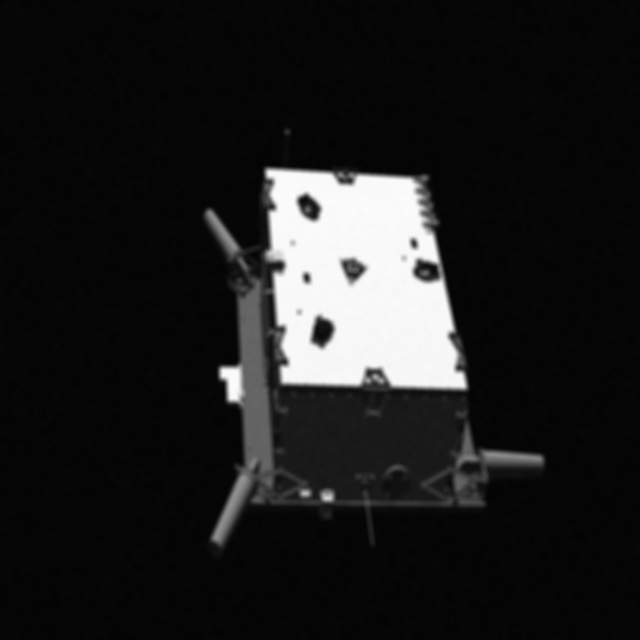satellite: (188, 152, 554, 558)
